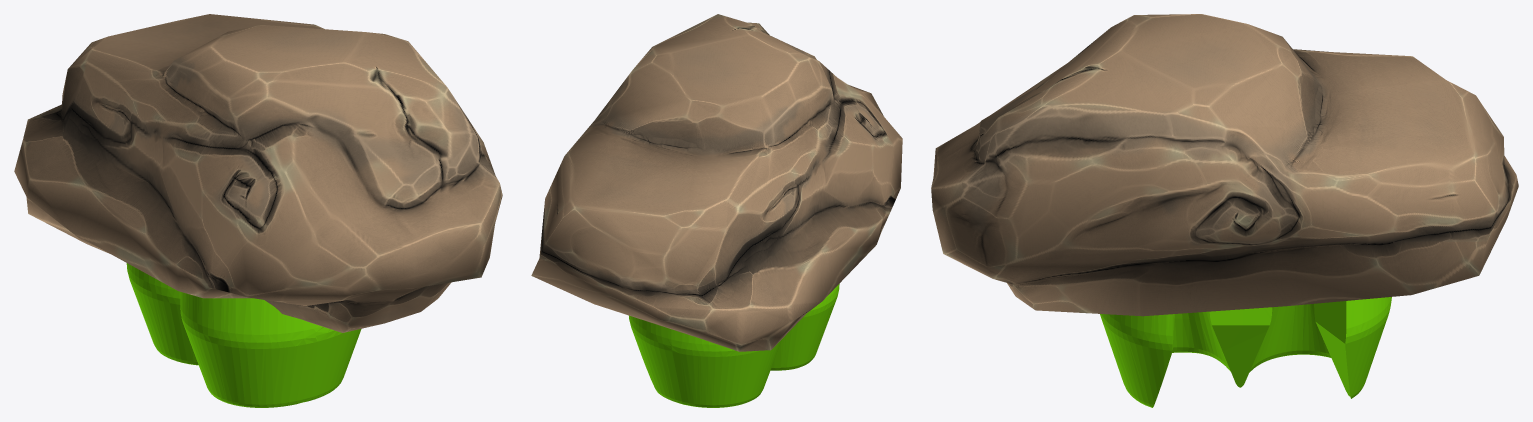
Rendered from astn3.fbx.
3 views of the same model, side by side, from view 1: azimuth 30°, elevation 25°; view 2: azimuth 150°, elevation 25°; view 3: azimuth 270°, elevation 25° (orthographic). The views are drawn at different scales.
Visible parts, largest first — view 1: node_id76, node_id46.002; view 2: node_id76, node_id46.002; view 3: node_id76, node_id46.002.
Part boxes in pixels (x1,y1,x2,y2): node_id76: [14, 14, 502, 332]; node_id46.002: [126, 263, 361, 407]; node_id76: [531, 14, 902, 351]; node_id46.002: [629, 284, 839, 407]; node_id76: [931, 14, 1518, 316]; node_id46.002: [1100, 297, 1391, 407].
Size of the model in its own units: 47.33 by 51.65 by 78.02.
Materials: 2 (2 with a texture image).
